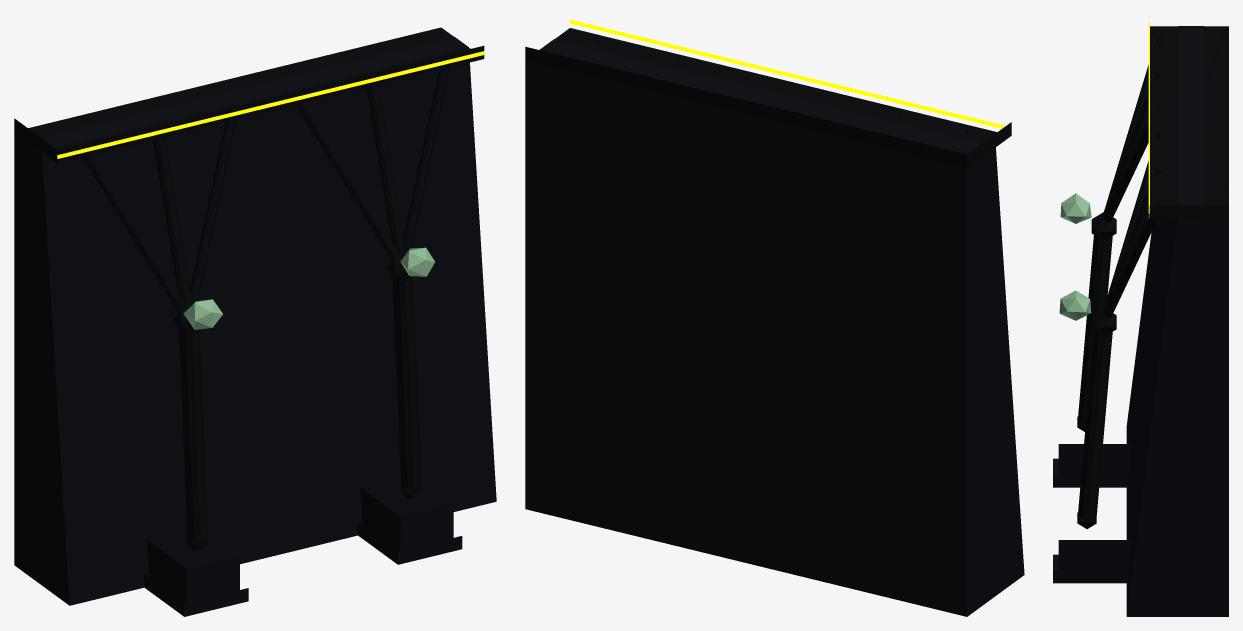
3 views of the same model, side by side, from view 1: azimuth 30°, elevation 25°; view 2: azimuth 150°, elevation 25°; view 3: azimuth 270°, elevation 25° (orthographic). The views are drawn at different scales.
Parts seen in each view (by area): view 1: Battered_Wall, Branch_Buttress, Coping, Skirt_Core, Coping_Court_Line, Fork_Leaves; view 2: Skirt_Core, Battered_Wall, Coping, Coping_Court_Line; view 3: Battered_Wall, Branch_Buttress, Coping, Skirt_Core, Fork_Leaves, Coping_Court_Line.
Part boxes in pixels (x1=…): Battered_Wall: x1=27, y1=36, x2=496, y2=616; Branch_Buttress: x1=82, y1=67, x2=449, y2=550; Coping: x1=14, y1=27, x2=484, y2=162; Skirt_Core: x1=14, y1=132, x2=27, y2=574; Coping_Court_Line: x1=57, y1=51, x2=484, y2=158; Fork_Leaves: x1=183, y1=247, x2=434, y2=329; Skirt_Core: x1=525, y1=60, x2=981, y2=616; Battered_Wall: x1=539, y1=39, x2=1024, y2=606; Coping: x1=525, y1=28, x2=1011, y2=167; Coping_Court_Line: x1=569, y1=19, x2=1012, y2=130; Battered_Wall: x1=1053, y1=26, x2=1204, y2=616; Branch_Buttress: x1=1077, y1=38, x2=1164, y2=528; Coping: x1=1149, y1=26, x2=1228, y2=217; Skirt_Core: x1=1204, y1=217, x2=1228, y2=616; Fork_Leaves: x1=1059, y1=193, x2=1091, y2=320; Coping_Court_Line: x1=1148, y1=22, x2=1149, y2=213.
Size of what is drawn, in the model's own units: 4 by 4 by 1.55.
4 materials, 2 textured.
